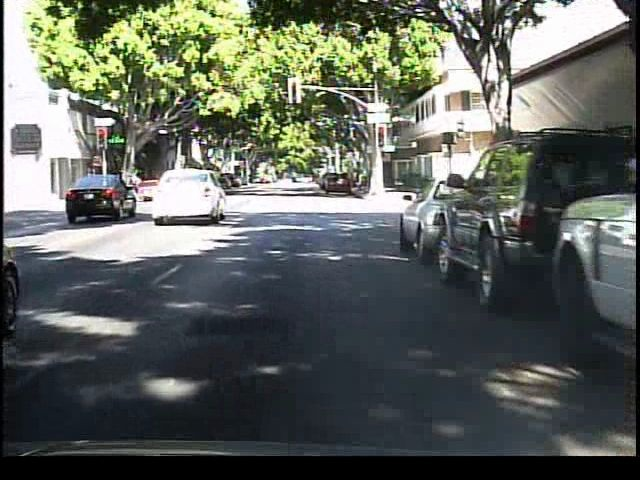person: (127, 161, 150, 198)
